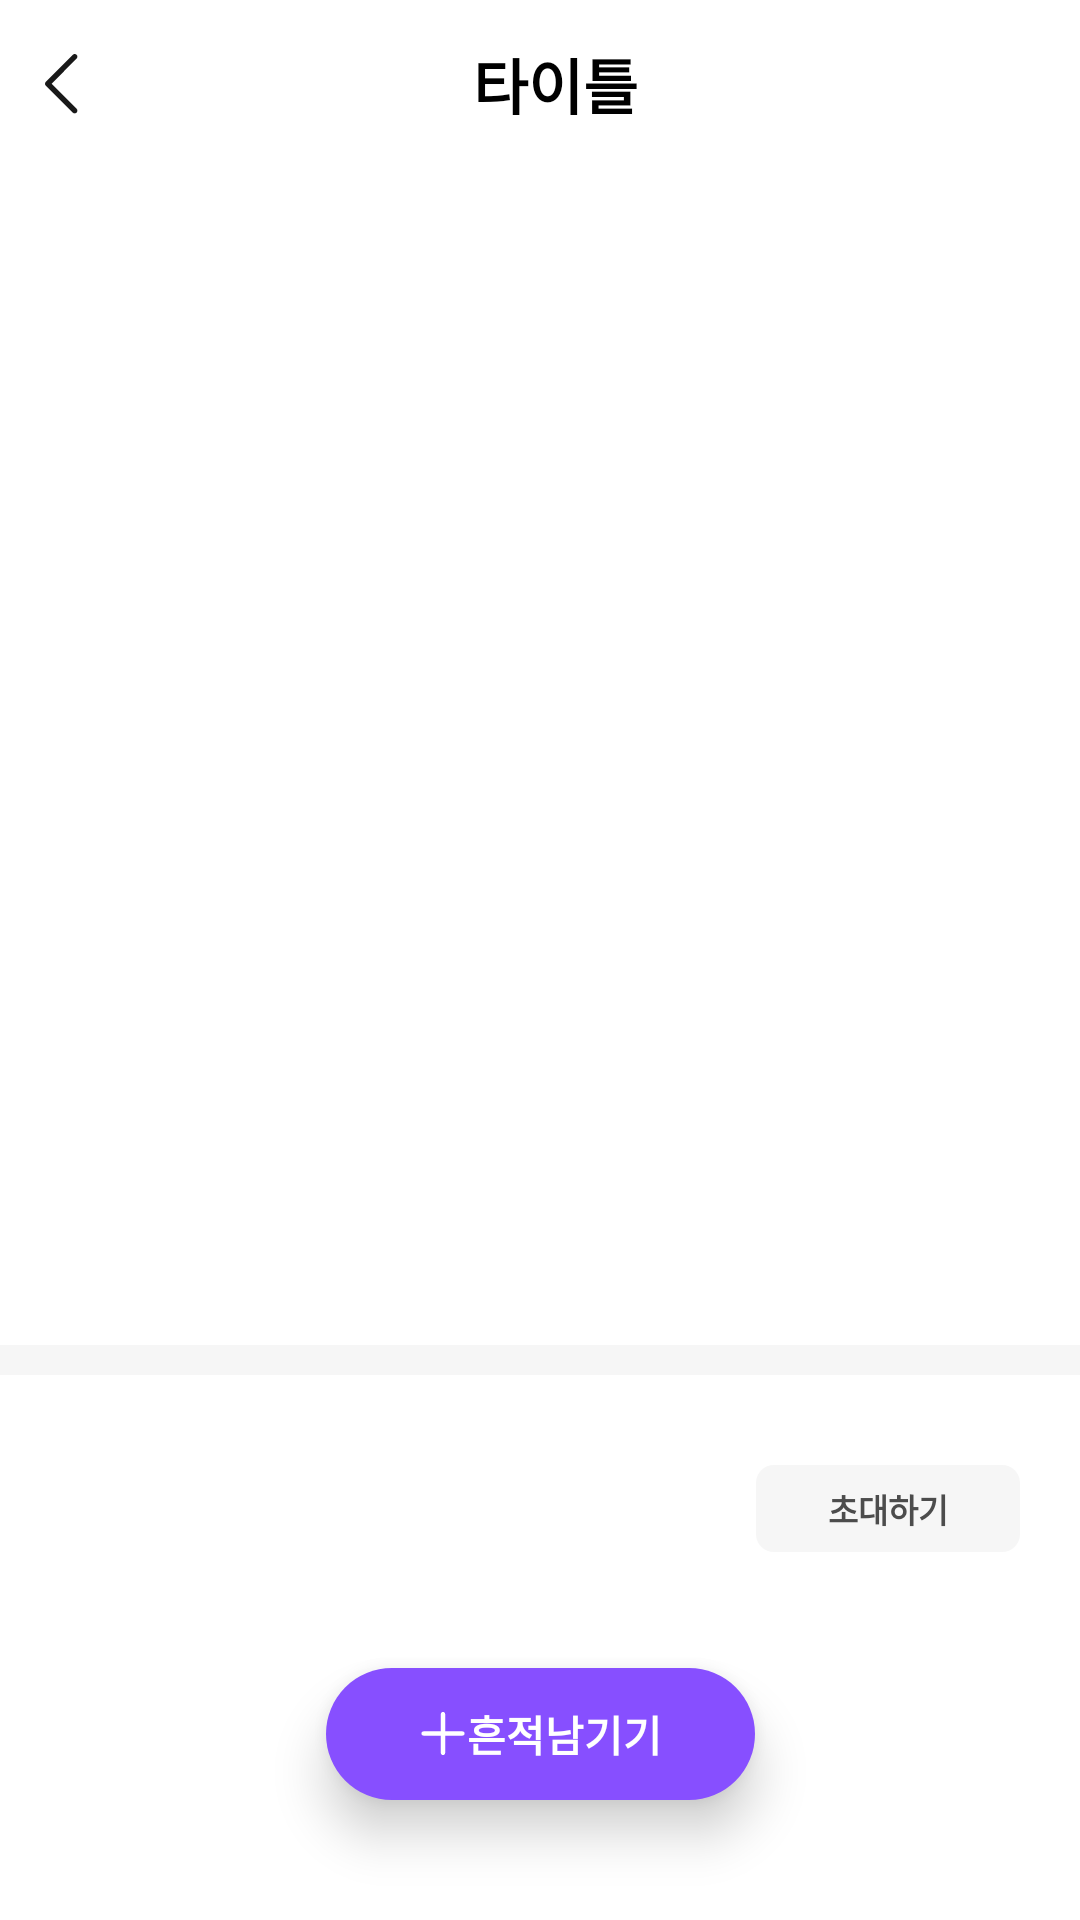

Where icons sit on this 1080x1920 app screen, as (x1, y1, x2, y2):
chevron left: (45, 54, 78, 114)
